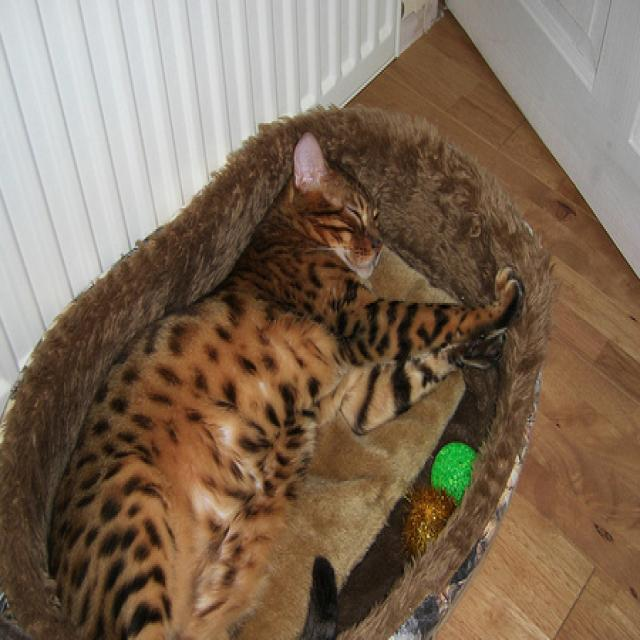Bengal: (36, 125, 524, 640)
